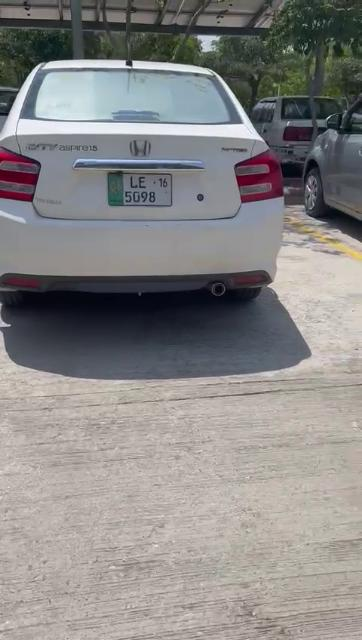plate: (105, 168, 173, 206)
